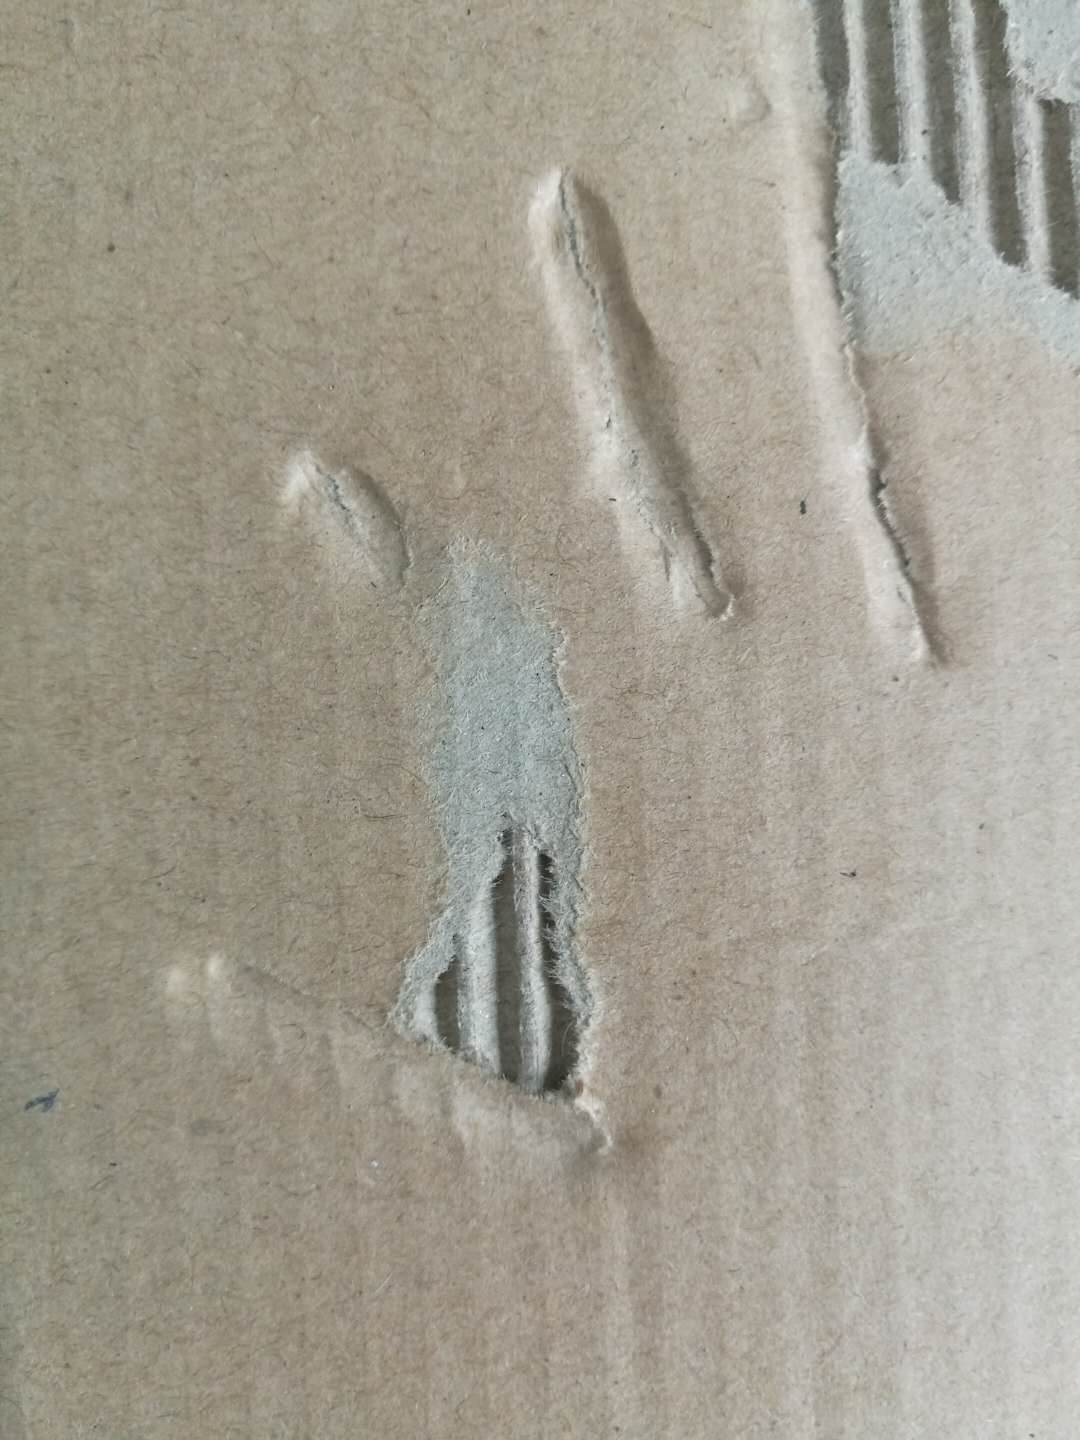defect: (132, 515, 674, 1193), (714, 1, 1080, 686), (503, 135, 762, 653), (265, 416, 434, 625)
